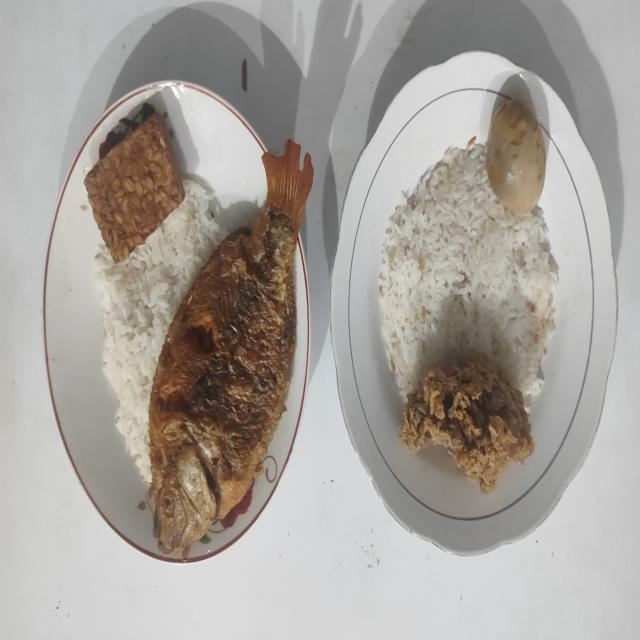ikan_mujair: (150, 142, 312, 552)
nasi_putih: (378, 144, 558, 400), (95, 179, 229, 482)
tempe_goreng: (84, 111, 185, 262)
